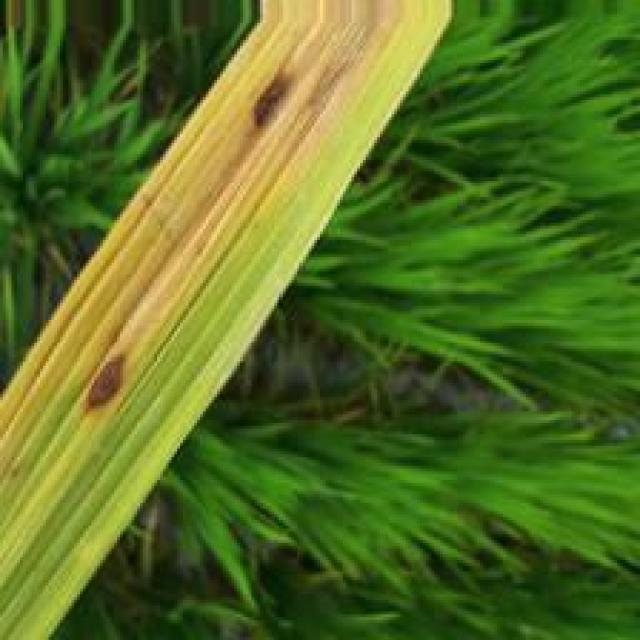Brown_Spot: (238, 58, 299, 140), (72, 345, 130, 417)
